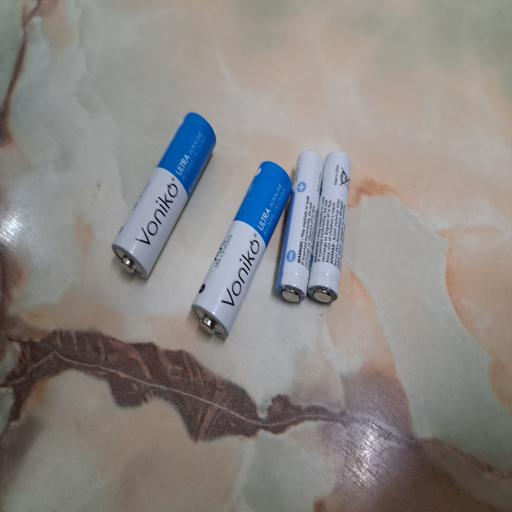battery: (188, 160, 292, 340), (112, 112, 217, 279), (276, 152, 323, 305), (306, 150, 352, 305)
